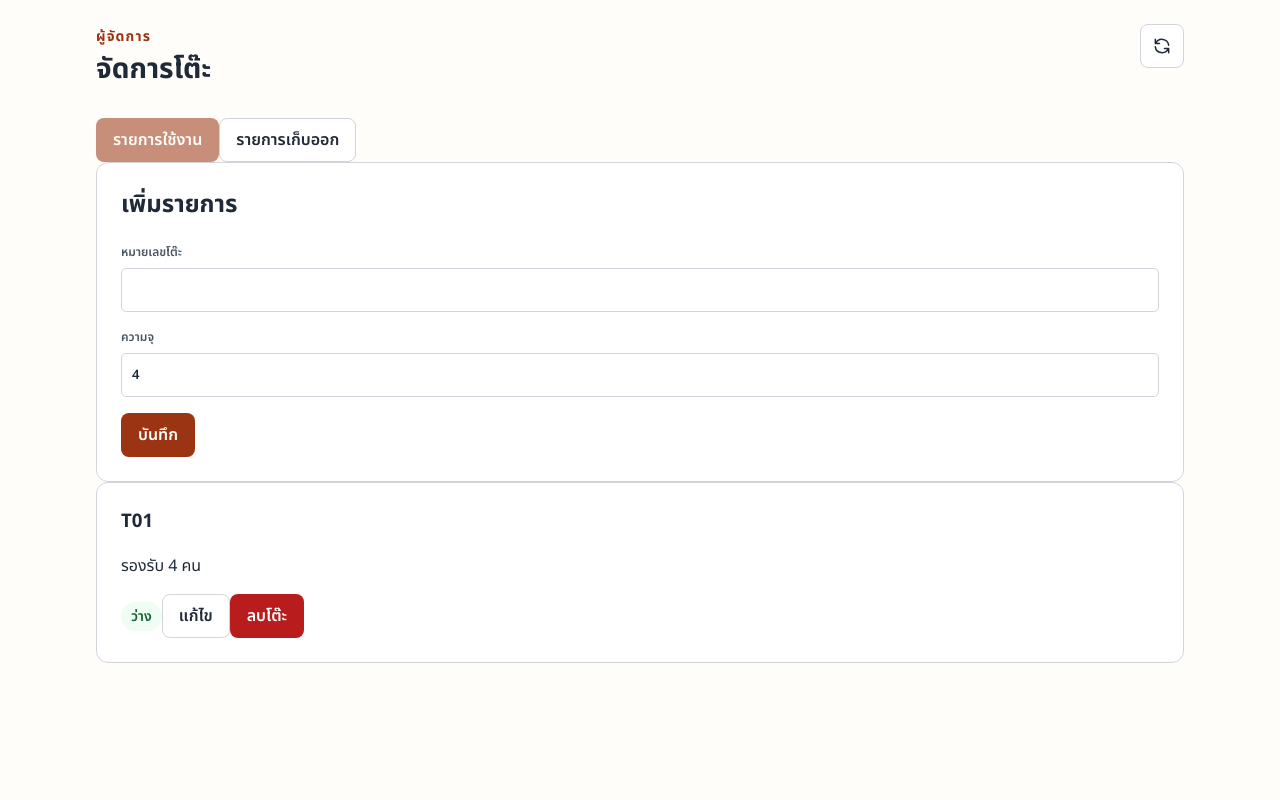
Test case: displays a server rejection without removing the row
Check: the heading "T01" is shown, box [121,507,153,535]
What coordinates should you click on to do the following:
click the button "ลบโต๊ะ"
I would click on:
 (267, 616)
Its box is [230,594,304,638].
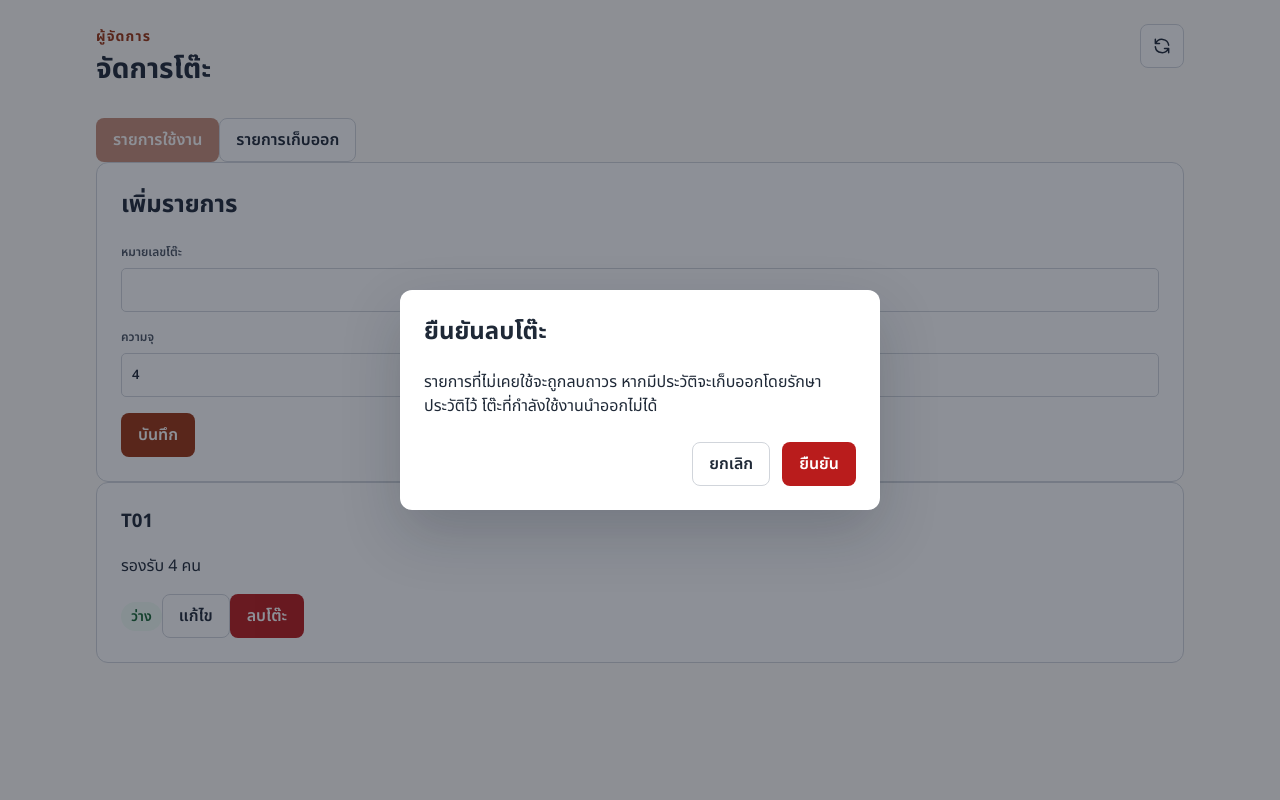
What coordinates should you click on to do the following:
click the button "ยืนยัน"
I would click on:
 (819, 464)
Its box is [782,442,856,486].
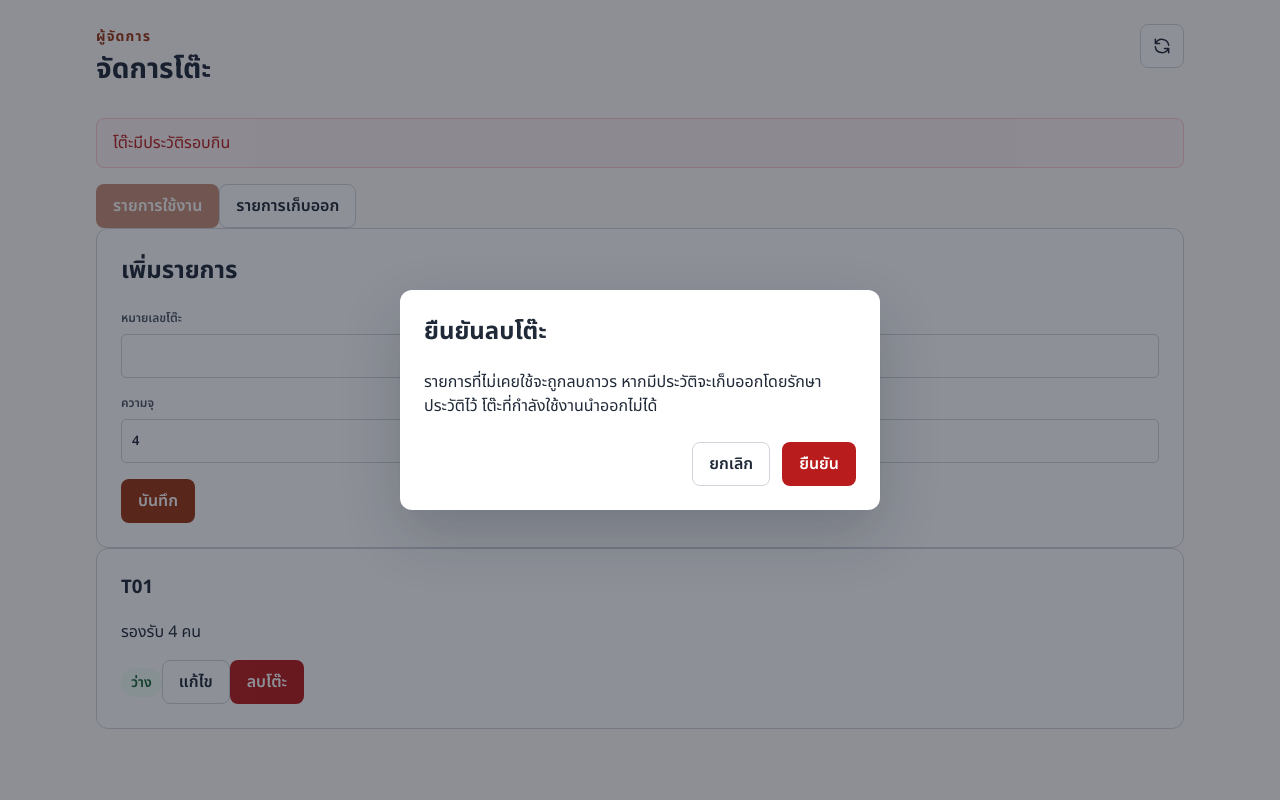
Check: the message reads "โต๊ะมีประวัติรอบกิน", box [113,131,230,155]
